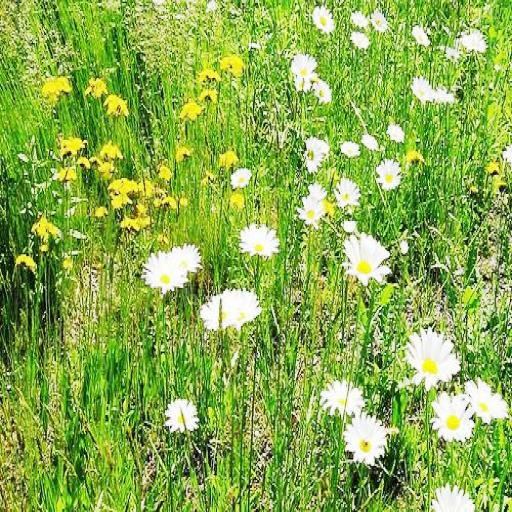daisy: (408, 324, 458, 388), (345, 231, 388, 286), (344, 415, 389, 464), (433, 394, 474, 446), (142, 253, 186, 299), (468, 377, 509, 423), (322, 383, 368, 417), (431, 478, 474, 512), (236, 223, 280, 256), (204, 285, 232, 332), (162, 401, 198, 434), (234, 290, 262, 328), (377, 156, 406, 191), (173, 242, 206, 268), (336, 178, 361, 205), (292, 51, 317, 78), (301, 196, 322, 228), (315, 5, 334, 32), (413, 75, 432, 100), (352, 11, 366, 29)
